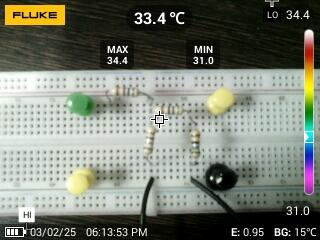resistor: (140, 123, 158, 157), (107, 84, 143, 100), (186, 127, 202, 159), (152, 103, 186, 118)
